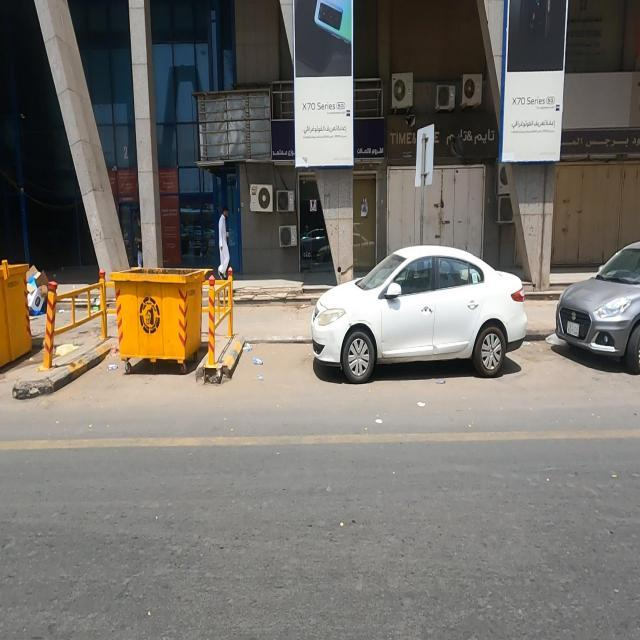debris: (144, 34, 326, 204), (6, 244, 68, 334), (90, 340, 135, 391), (228, 322, 266, 368), (246, 341, 276, 388)
